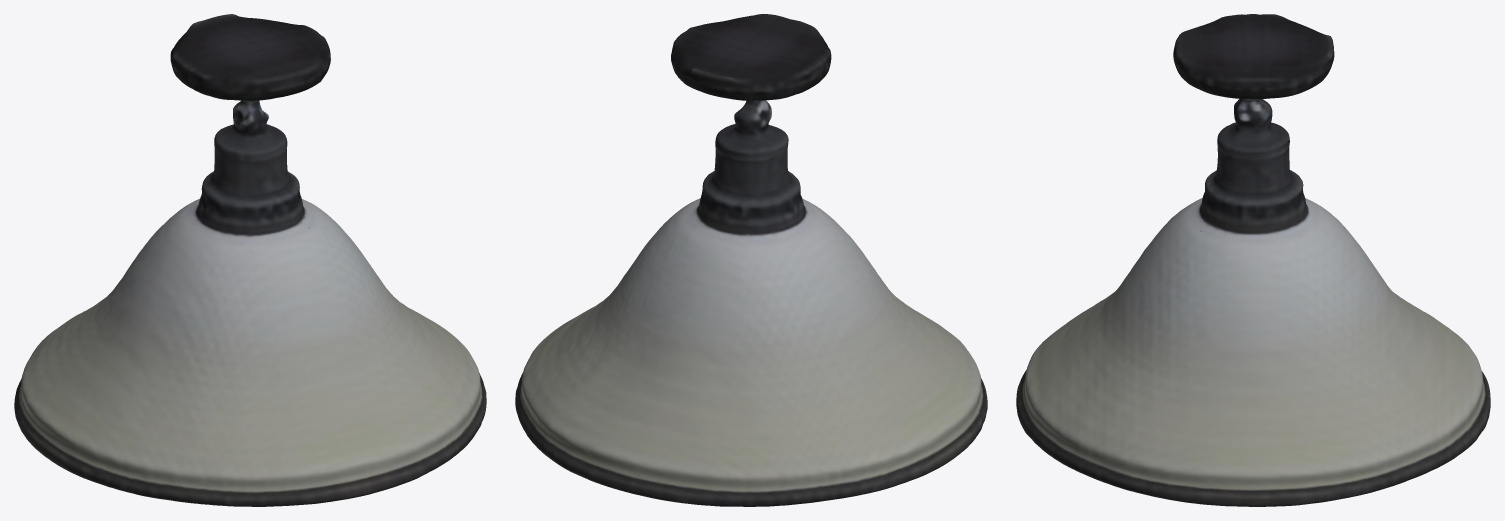
Rendered from 2aa3b00922c4_ceiling_lamp__3d_as.fbx.
3 renders of one model, left to right at view 1: azimuth 30°, elevation 25°; view 2: azimuth 150°, elevation 25°; view 3: azimuth 270°, elevation 25°, orthographic.
Parts seen in each view (by area): view 1: high_poly; view 2: high_poly; view 3: high_poly.
Boxes of the visible parts, left/top/right/bottom form: high_poly: left=14, top=14, right=486, bottom=506; high_poly: left=515, top=14, right=987, bottom=506; high_poly: left=1016, top=14, right=1490, bottom=506.
Size of the model in its own units: 100 by 84.5 by 99.98.
